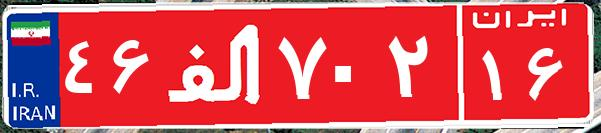0: (330, 28, 385, 110)
1: (475, 38, 525, 113)
2: (385, 28, 445, 110)
4: (57, 26, 110, 107)
6: (110, 28, 158, 105), (525, 38, 570, 115)
7: (273, 28, 330, 110)
الف: (158, 15, 273, 115)
